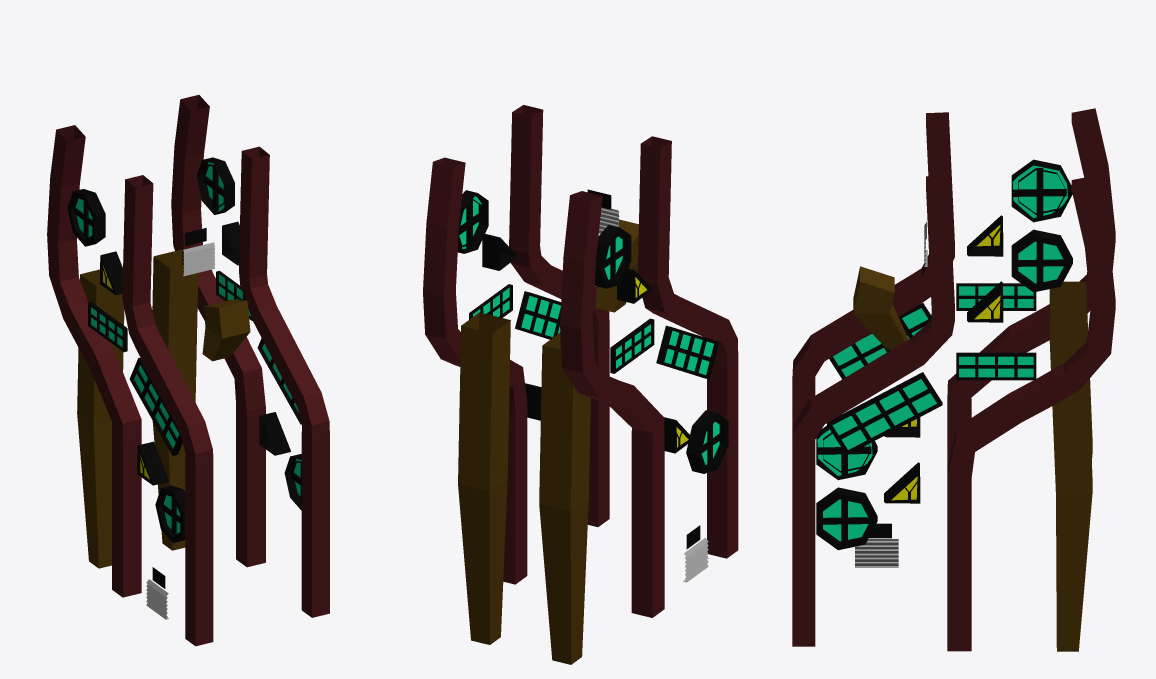
File: CasaTorta.fbx
3 renders of one model, left to right at view 1: azimuth 30°, elevation 25°; view 2: azimuth 150°, elevation 25°; view 3: azimuth 270°, elevation 25°, orthographic. The views are drawn at different scales.
Parts seen in each view (by area): view 1: CasaTorta; view 2: CasaTorta; view 3: CasaTorta.
Boxes of the visible parts, bbox=[...] form: CasaTorta: bbox=[47, 95, 329, 646]; CasaTorta: bbox=[423, 105, 738, 664]; CasaTorta: bbox=[792, 108, 1115, 651].
Size of the model in its own units: 659 by 1766 by 941.
